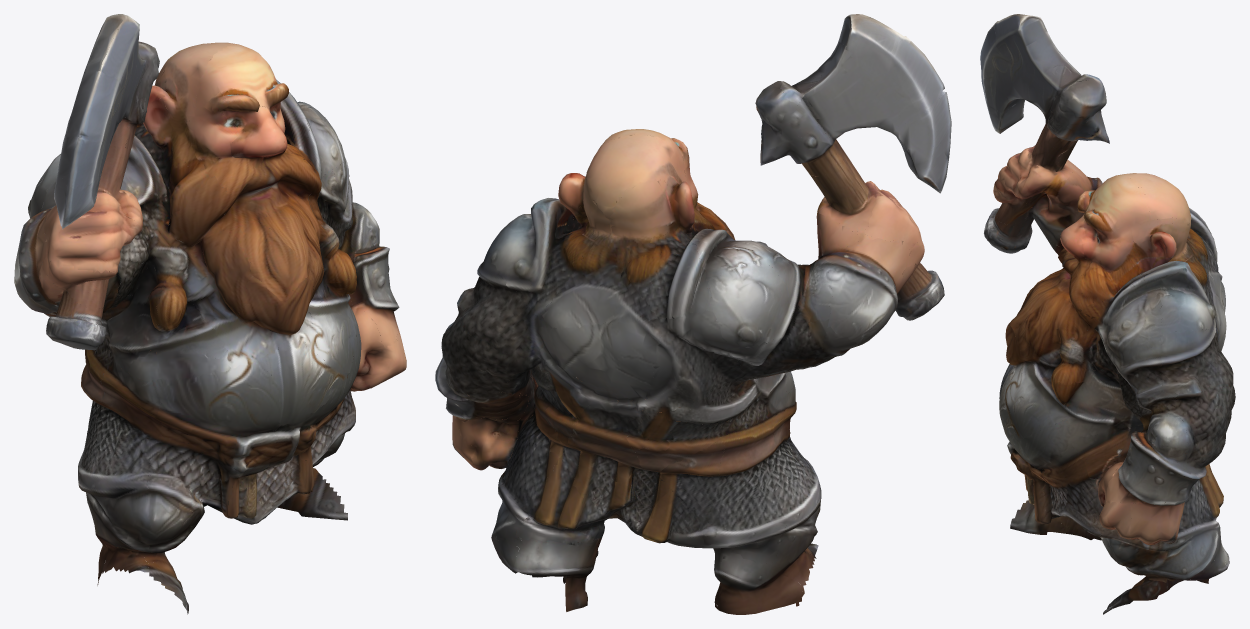
File: stonewright.glb
The picture shows the model from 3 angles, left to right: view 1: azimuth 30°, elevation 25°; view 2: azimuth 150°, elevation 25°; view 3: azimuth 270°, elevation 25°; orthographic projection. The views are drawn at different scales.
Visible parts, largest first — view 1: Mesh_0; view 2: Mesh_0; view 3: Mesh_0.
Boxes of the visible parts, box(x1,y1,x2,y2) form: Mesh_0: box(14, 14, 406, 614); Mesh_0: box(435, 14, 951, 614); Mesh_0: box(980, 14, 1235, 614).
Size of the model in its own units: 0.9713 by 1.3 by 0.6104.
Materials: 1 (1 with a texture image).
